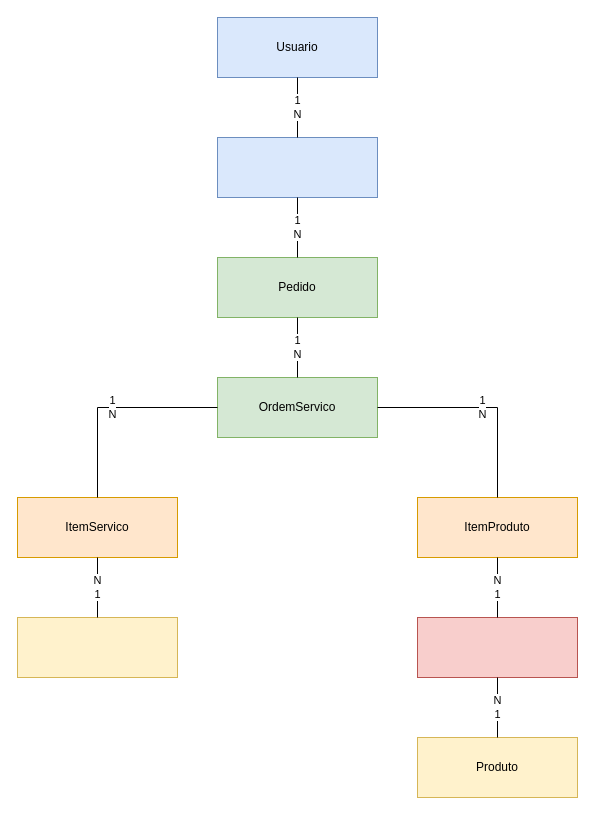
Some shapes in this 595 by 815 pixel diagram are drawn without their labels. Each missing label, with the centre of its shape:
Estoque: [497,647]
Servico: [97,647]
Veiculo: [297,167]
